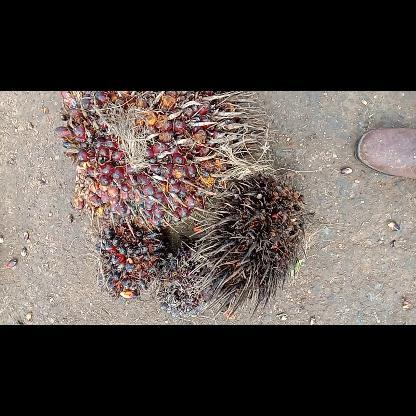Janjang kosong: (194, 168, 312, 320)
TBS abnormal: (93, 223, 171, 301), (154, 233, 214, 316)
TBS masak: (51, 92, 274, 232)
